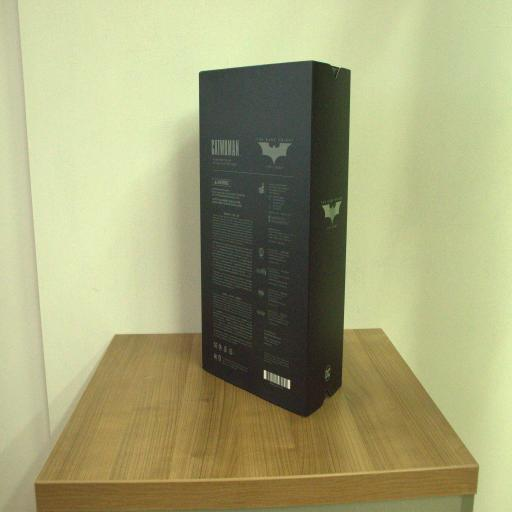catwoman: (199, 60, 350, 416)
